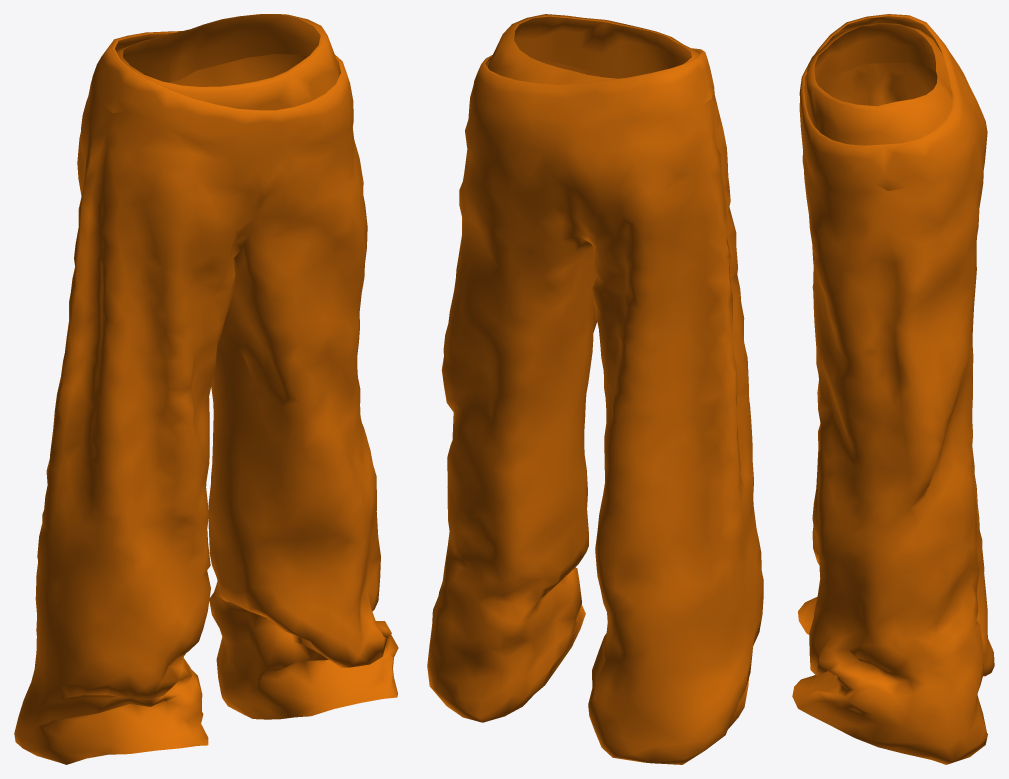
File: calçafem4glb.glb
3 renders of one model, left to right at view 1: azimuth 30°, elevation 25°; view 2: azimuth 150°, elevation 25°; view 3: azimuth 270°, elevation 25°, orthographic. The views are drawn at different scales.
Parts seen in each view (by area): view 1: hash_0DAEDAE6.model; view 2: hash_0DAEDAE6.model; view 3: hash_0DAEDAE6.model.
Part boxes in pixels (<box>): hash_0DAEDAE6.model: <box>14,14,398,764</box>; hash_0DAEDAE6.model: <box>427,14,763,764</box>; hash_0DAEDAE6.model: <box>792,14,994,764</box>.
Bounding box in the file's own units: 0.5218 × 1.08 × 0.3055.
